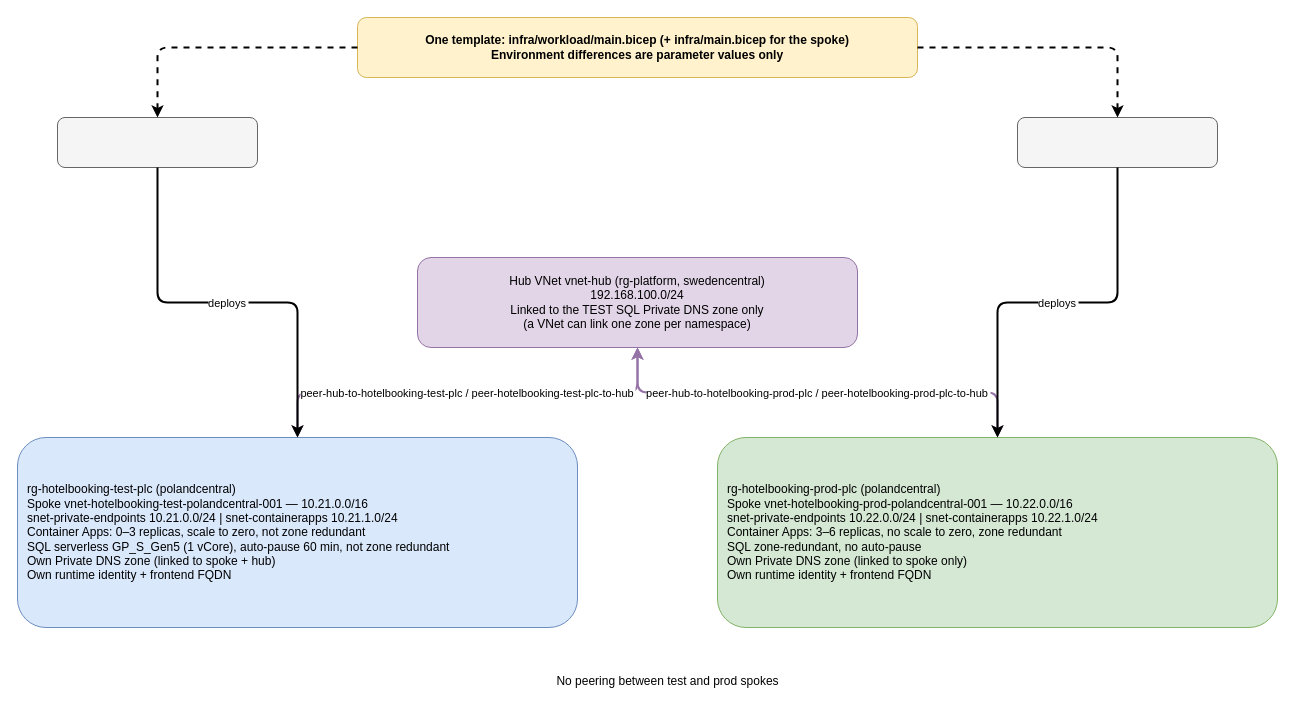
This 1295x715 diagram has some shape labels left out. Here are the shapes that lost their labels. From the top down, the centre of each, then its label:
At pixel 157 142: "main.test.bicepparam (workload + spoke)".
At pixel 1117 142: "main.prod.bicepparam (workload + spoke)".
